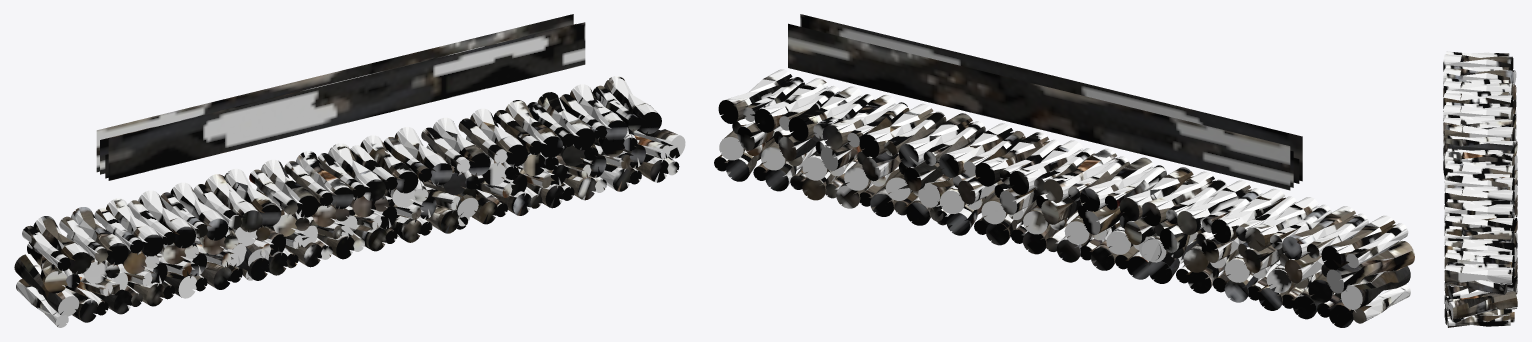
File: hotelhamilton_1.obj
The picture shows the model from 3 angles, left to right: view 1: azimuth 30°, elevation 25°; view 2: azimuth 150°, elevation 25°; view 3: azimuth 270°, elevation 25°; orthographic projection. The views are drawn at different scales.
Bounding box in the file's own units: 4.41 × 1.02 × 0.5858.
